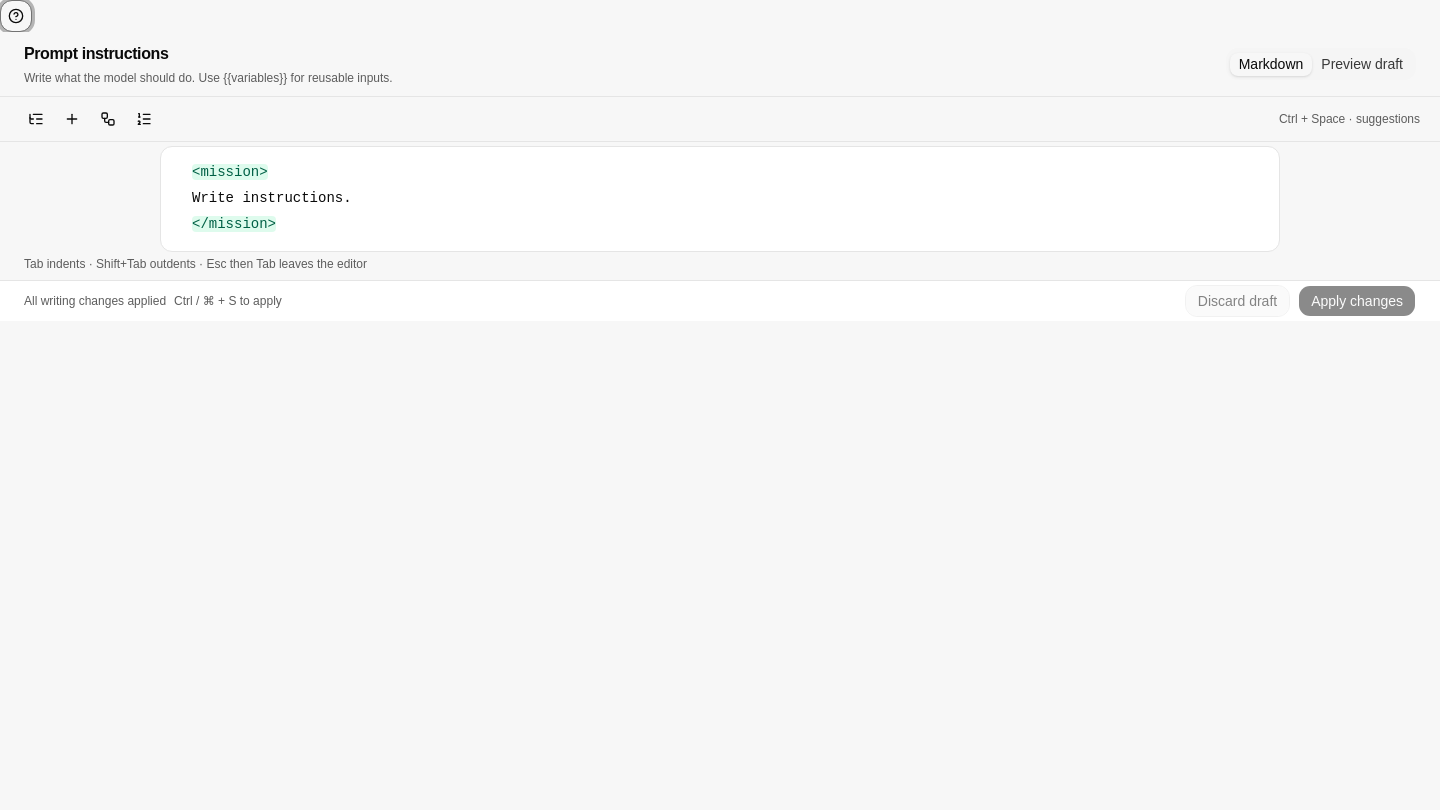
Test: can restore labelled toolbars and retain both app preferences after reopening
Later steps or results of the test are not shown.
Step 1. Press the mouse on the 1st button named "Help" → coordinates (16, 16), box [0,0,32,32]
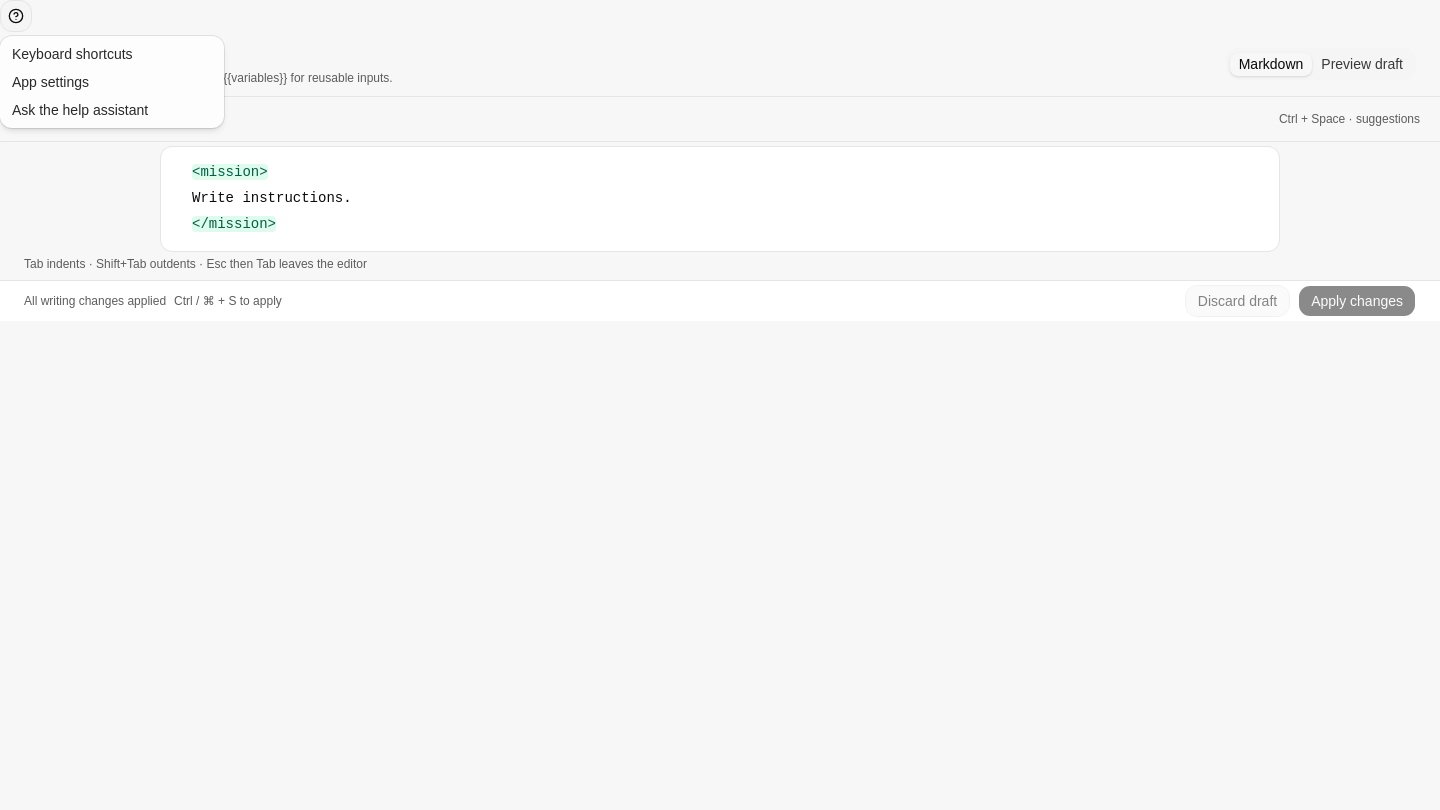
Step 2. Click the menu item "App settings" → coordinates (51, 82), box [12,74,89,90]
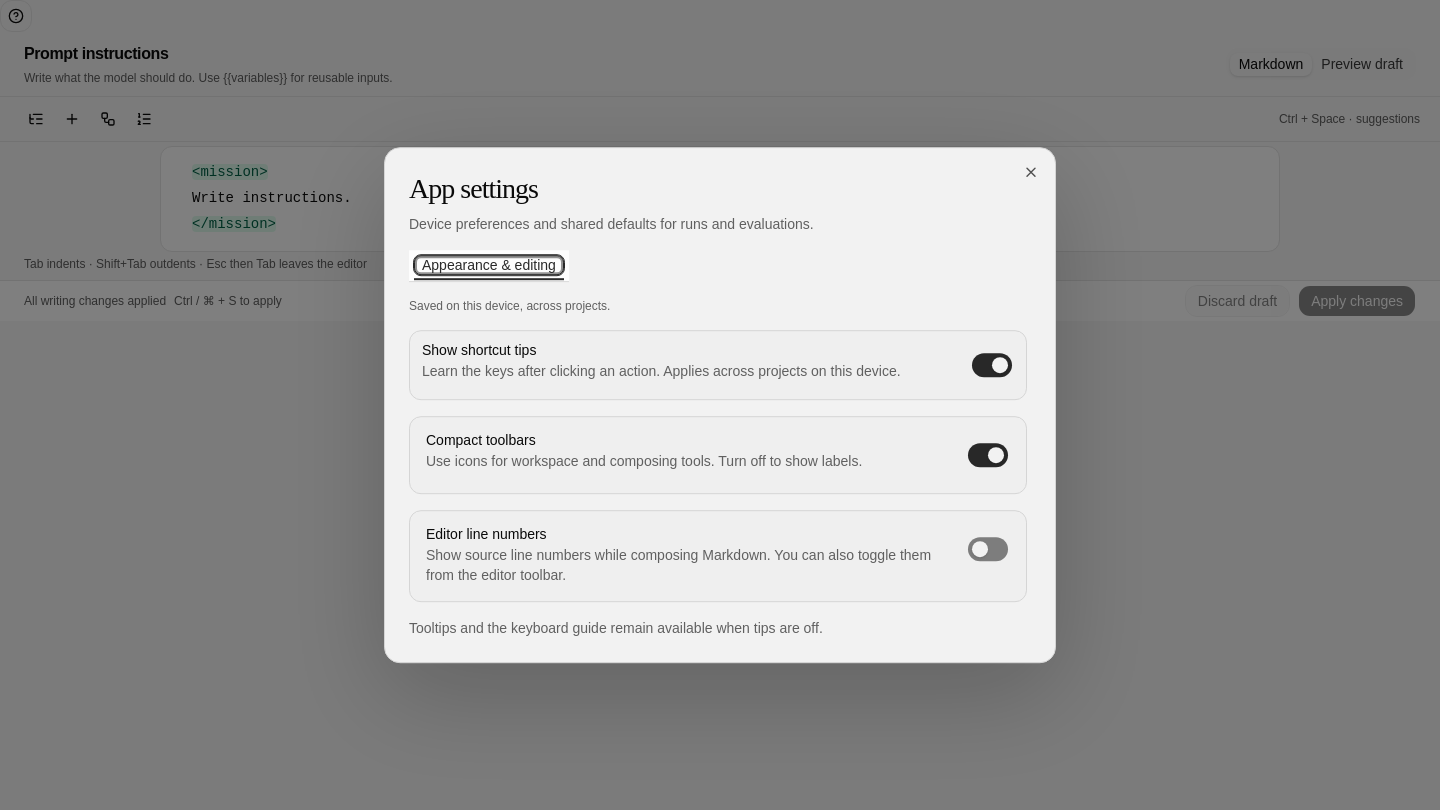
Expected: the switch named "Compact toolbars" in the row of "Compact toolbars" is checked
Step 3. Click the switch named "Compact toolbars" in the row of "Compact toolbars" → coordinates (988, 455), box [968,443,1008,467]
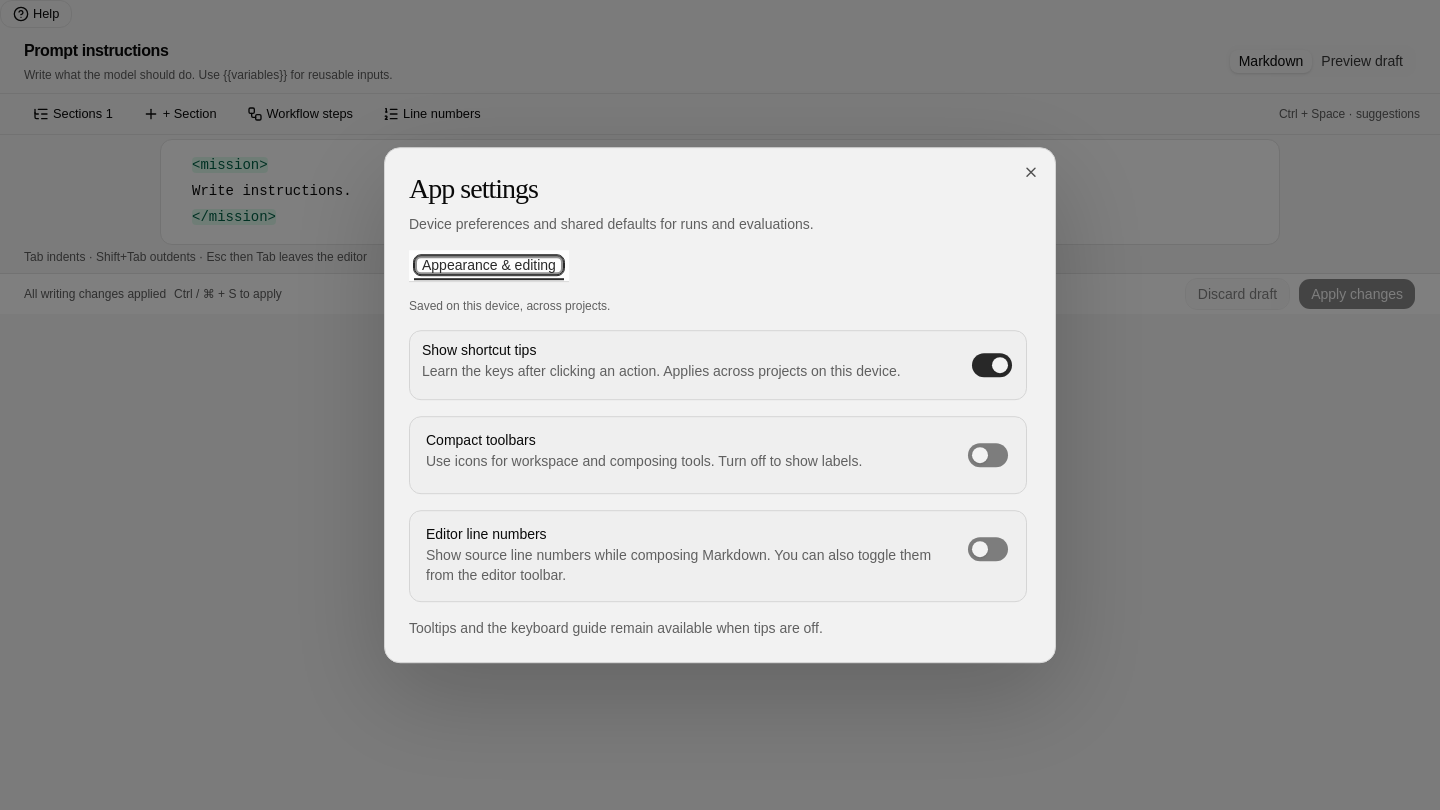
Expected: the switch named "Show shortcut tips" in the row of "Show shortcut tips" is checked, [972,353,1012,377]
